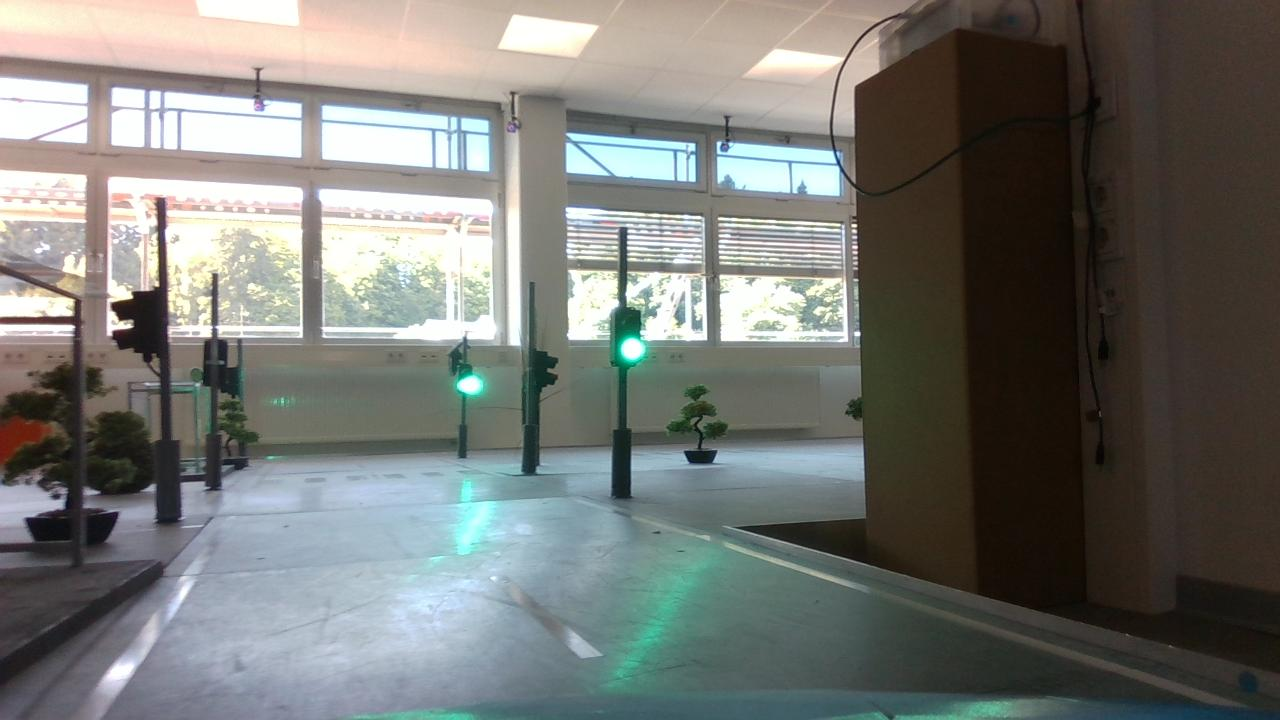traffic_light_green: (599, 302, 653, 380)
